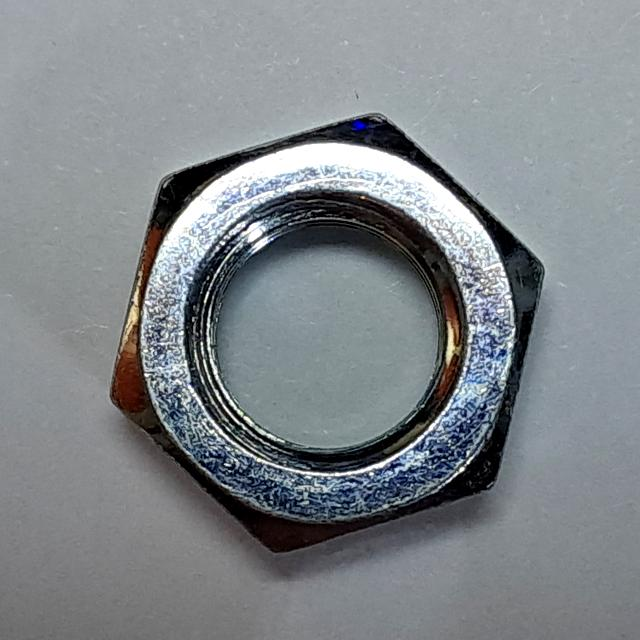Excellent: (94, 85, 560, 576)
